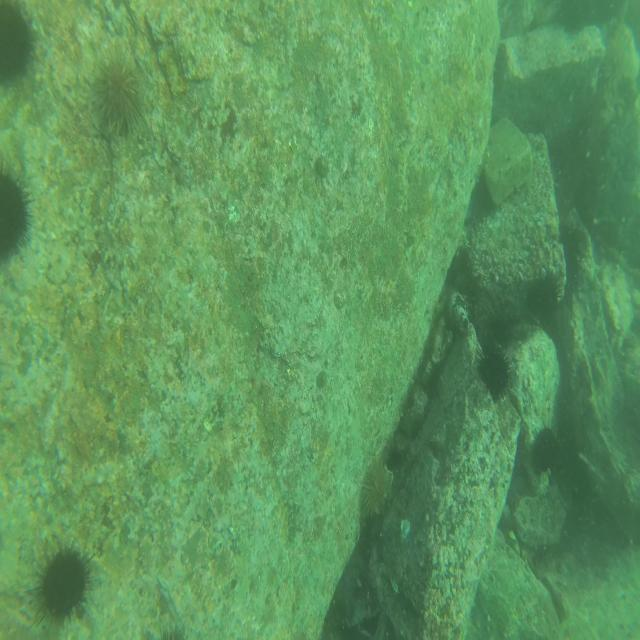echinus: (33, 530, 86, 626), (92, 47, 136, 138), (0, 167, 31, 261), (0, 3, 27, 84), (479, 343, 511, 399), (364, 456, 390, 524), (531, 272, 564, 316), (534, 426, 560, 475)
